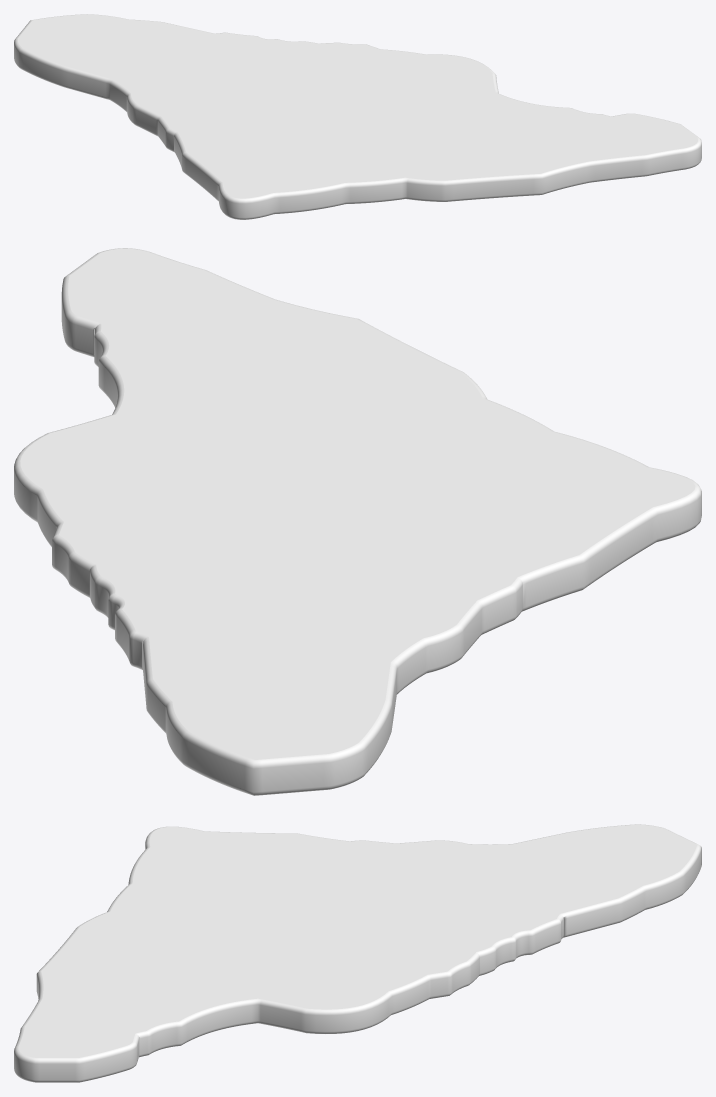
File: campillo.glb
3 renders of one model, top to bottom at view 1: azimuth 30°, elevation 25°; view 2: azimuth 150°, elevation 25°; view 3: azimuth 270°, elevation 25°, orthographic. The views are drawn at different scales.
Parts seen in each view (by area): view 1: node_id3; view 2: node_id3; view 3: node_id3.
Part boxes in pixels (bbox=[...]): node_id3: bbox=[14, 14, 701, 219]; node_id3: bbox=[14, 248, 701, 795]; node_id3: bbox=[14, 824, 701, 1082].
Size of the model in its own units: 0.512 by 0.0243 by 0.6279.
1 material, 1 textured.
